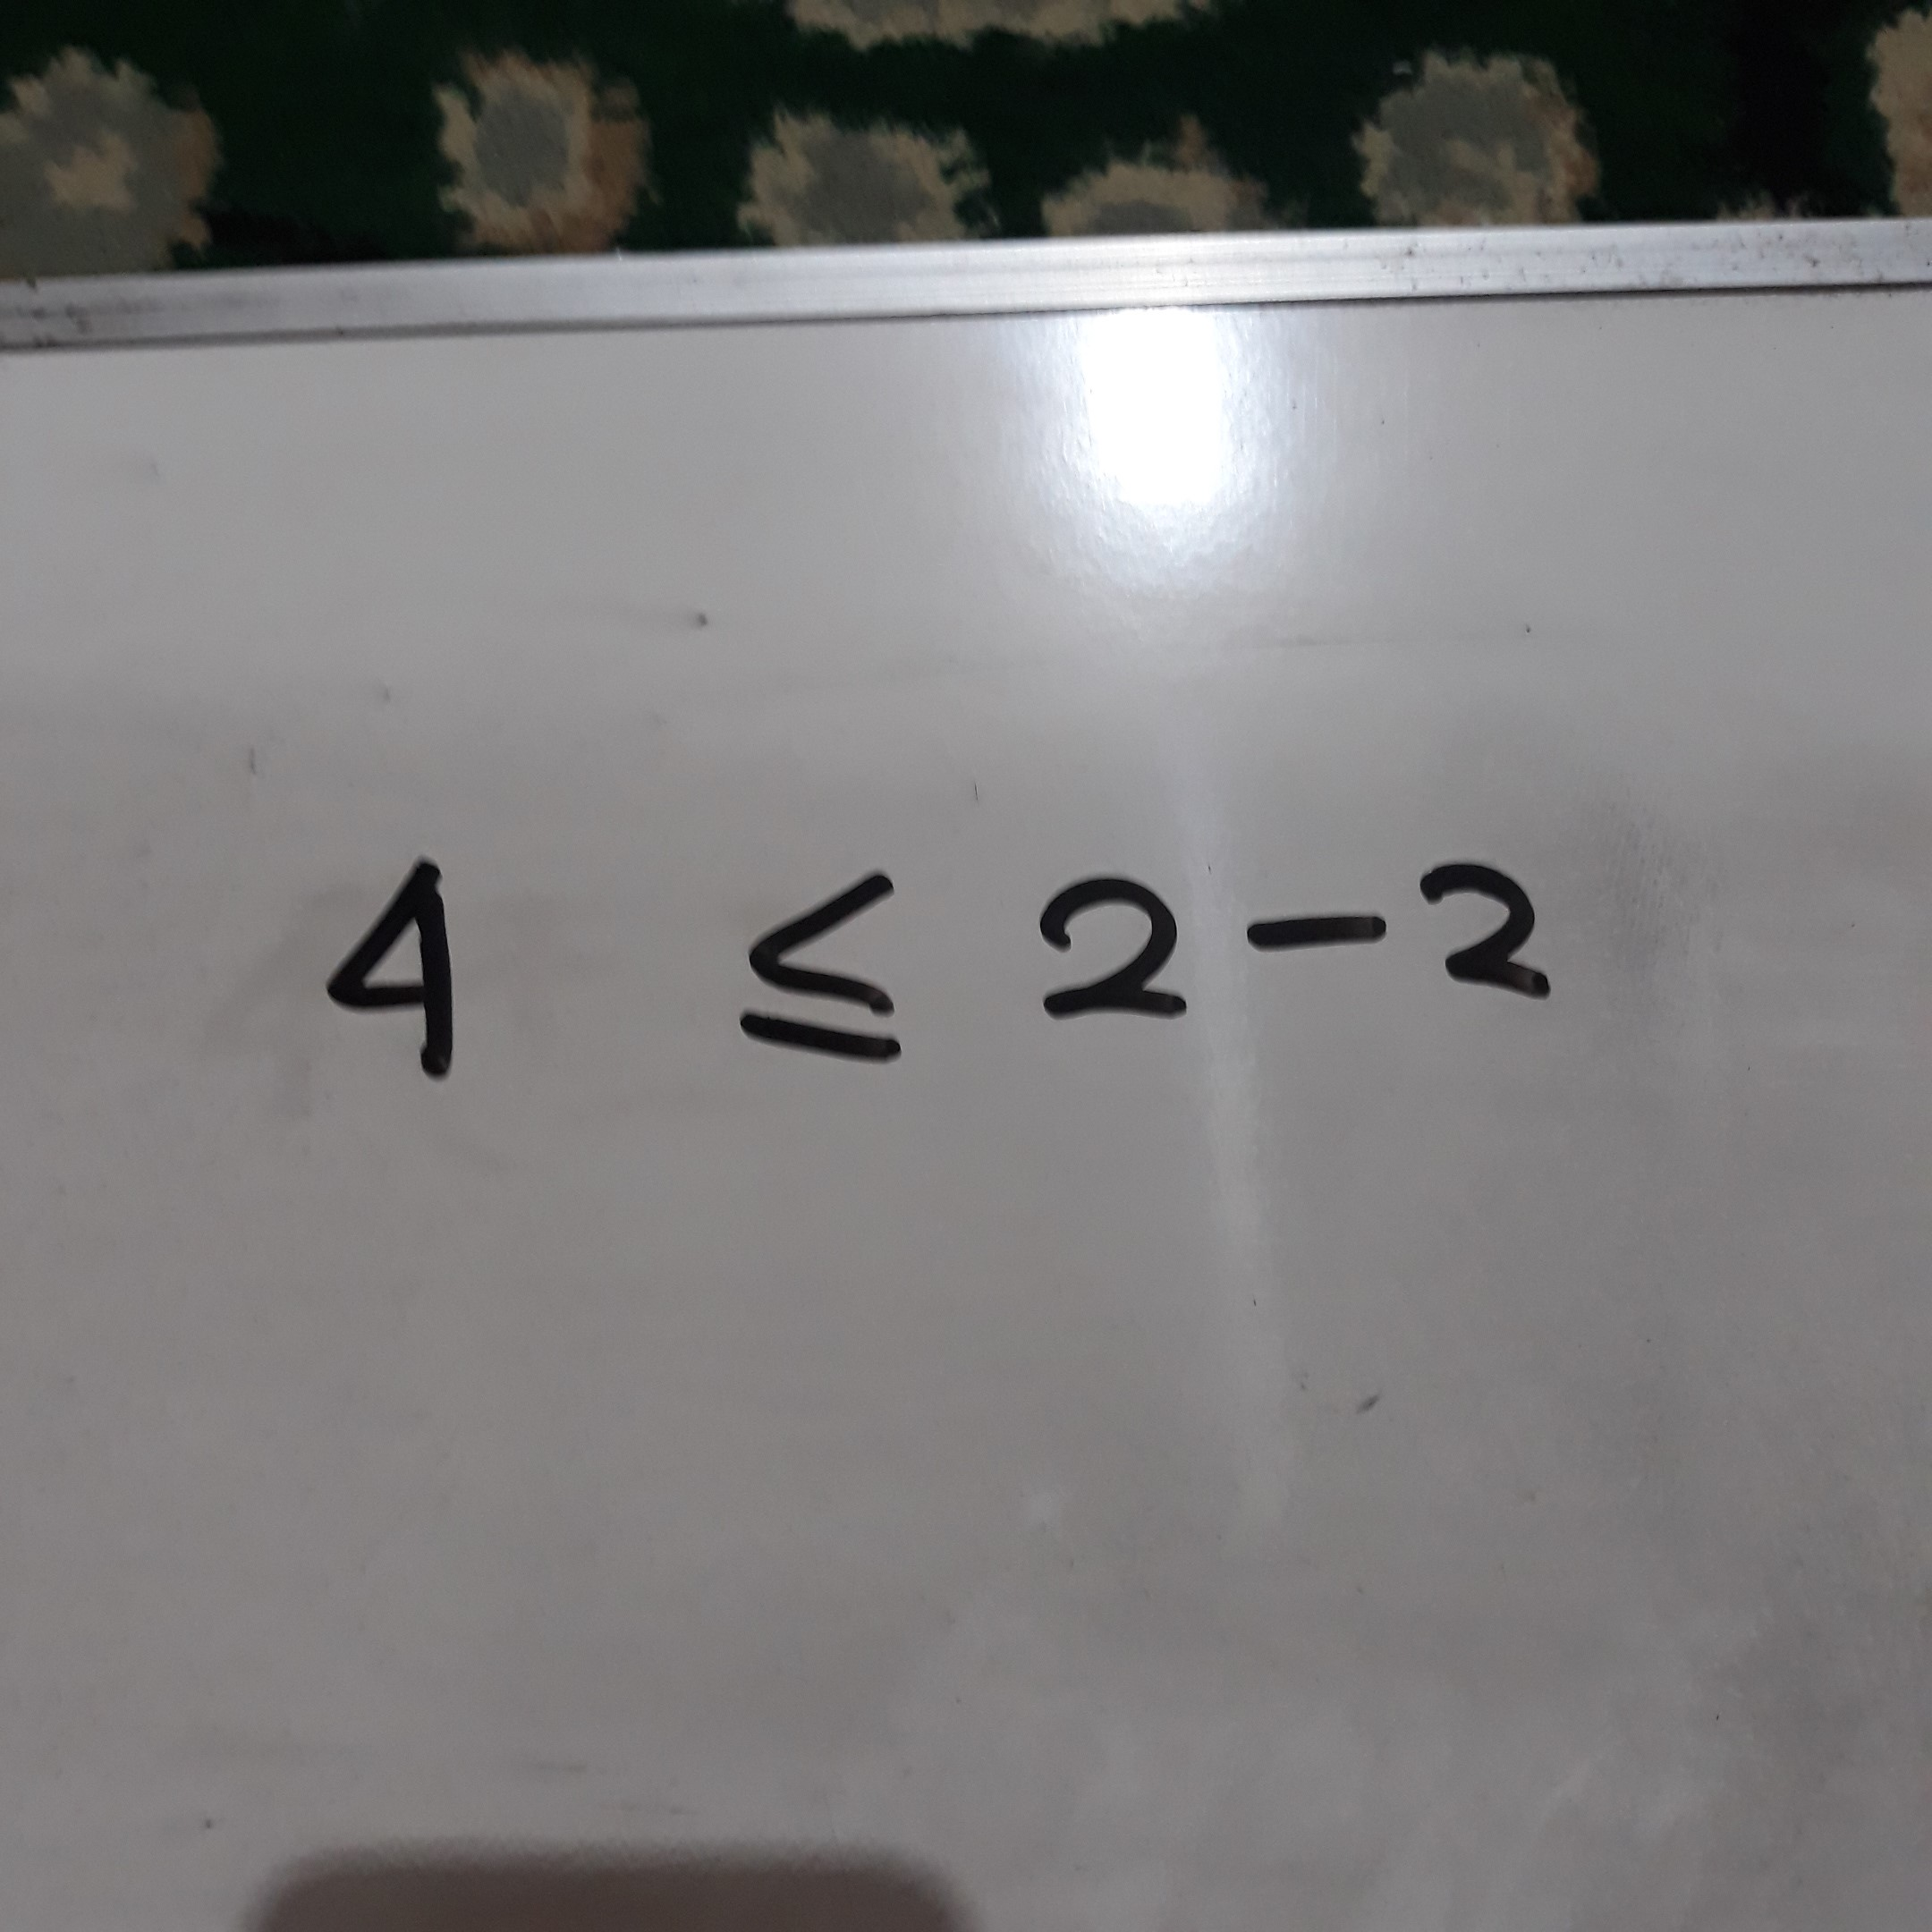lessthan-equal: (726, 840, 923, 1100)
min: (1236, 888, 1398, 964)
num2: (1008, 854, 1204, 1040), (1411, 831, 1586, 1024)
num4: (301, 821, 490, 1100)
